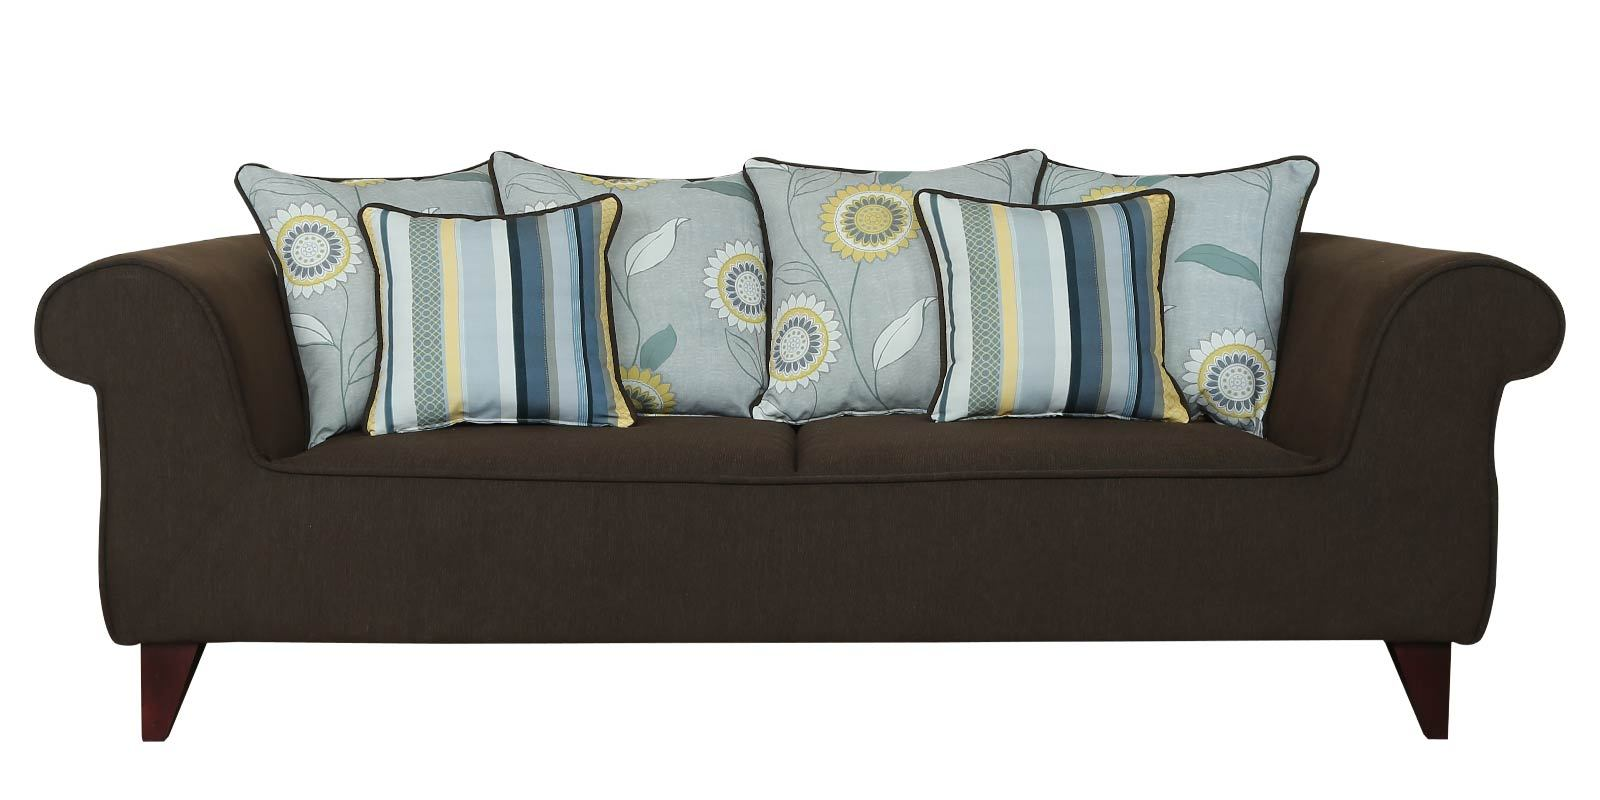Cielo Three Seater Sofa in Chestnut Brown Colour by CasaCraft: (48, 91, 1600, 743)
